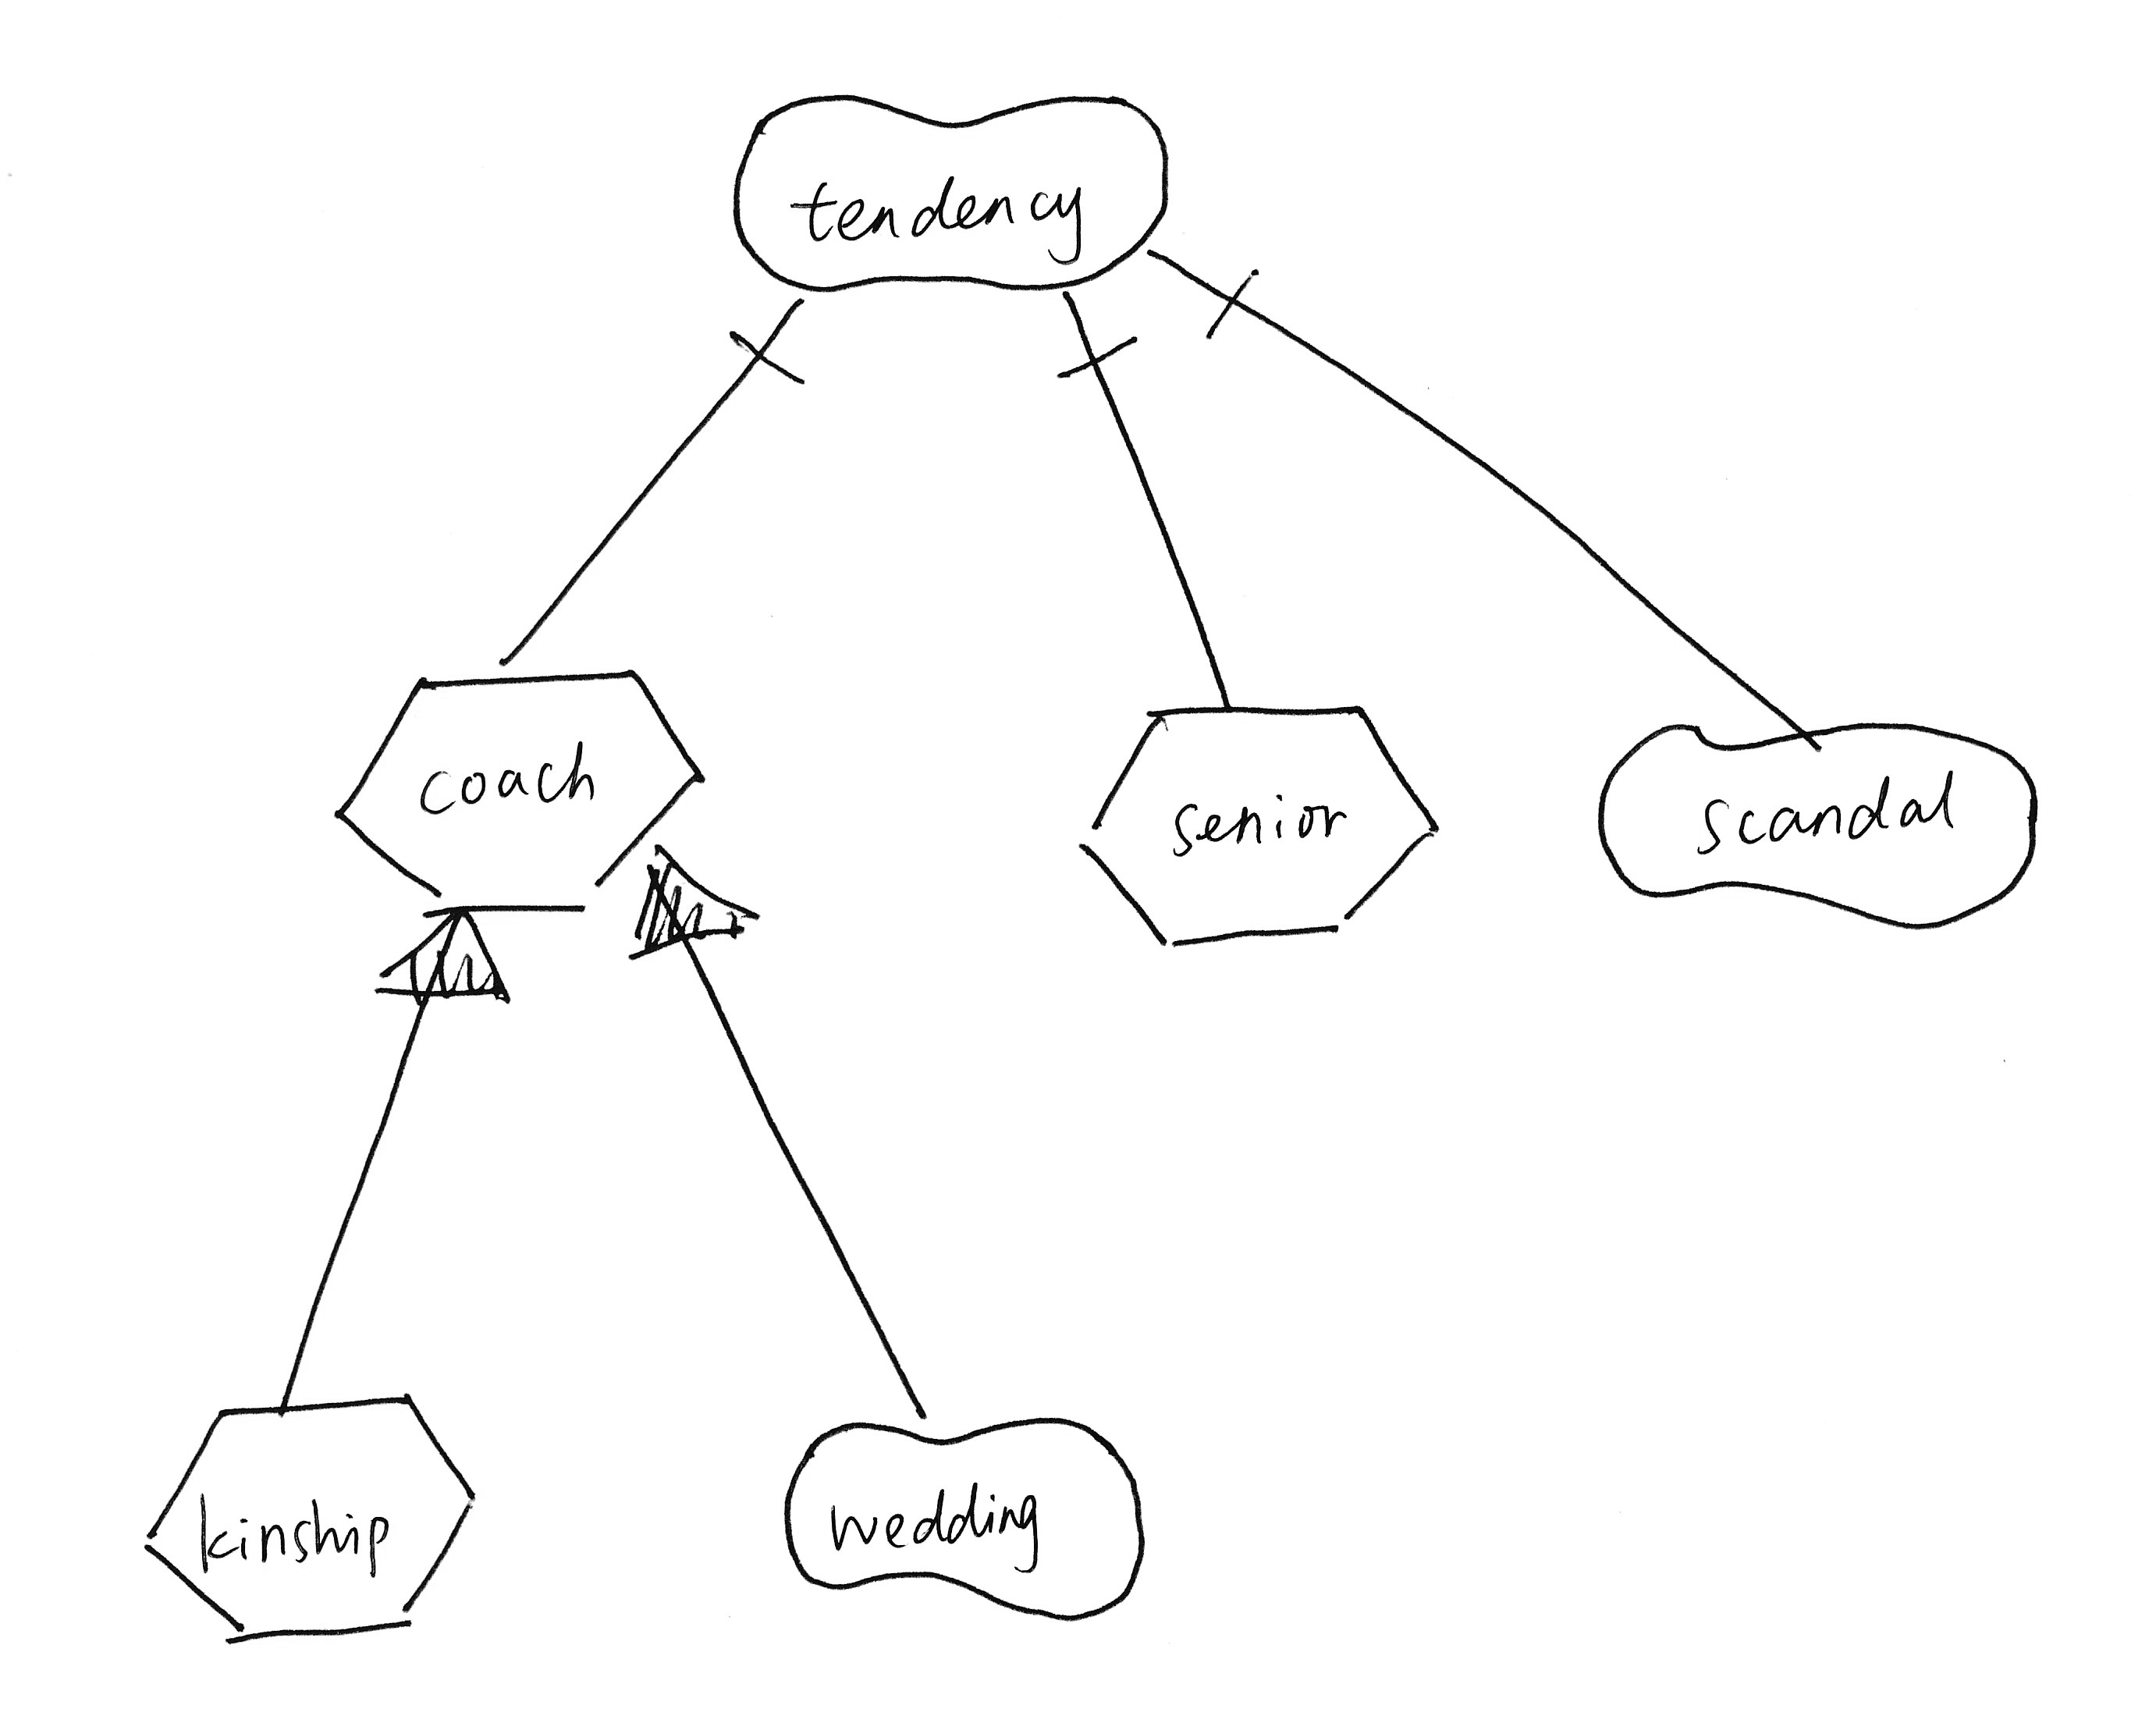and: (707, 313, 821, 413), (1034, 318, 1155, 399), (1194, 253, 1282, 355)
or: (614, 839, 774, 976), (362, 905, 526, 1025)
quality: (1577, 707, 2049, 944), (721, 69, 1185, 302), (770, 1392, 1162, 1632)
task: (1069, 687, 1463, 972), (318, 652, 721, 928), (127, 1375, 499, 1661)
